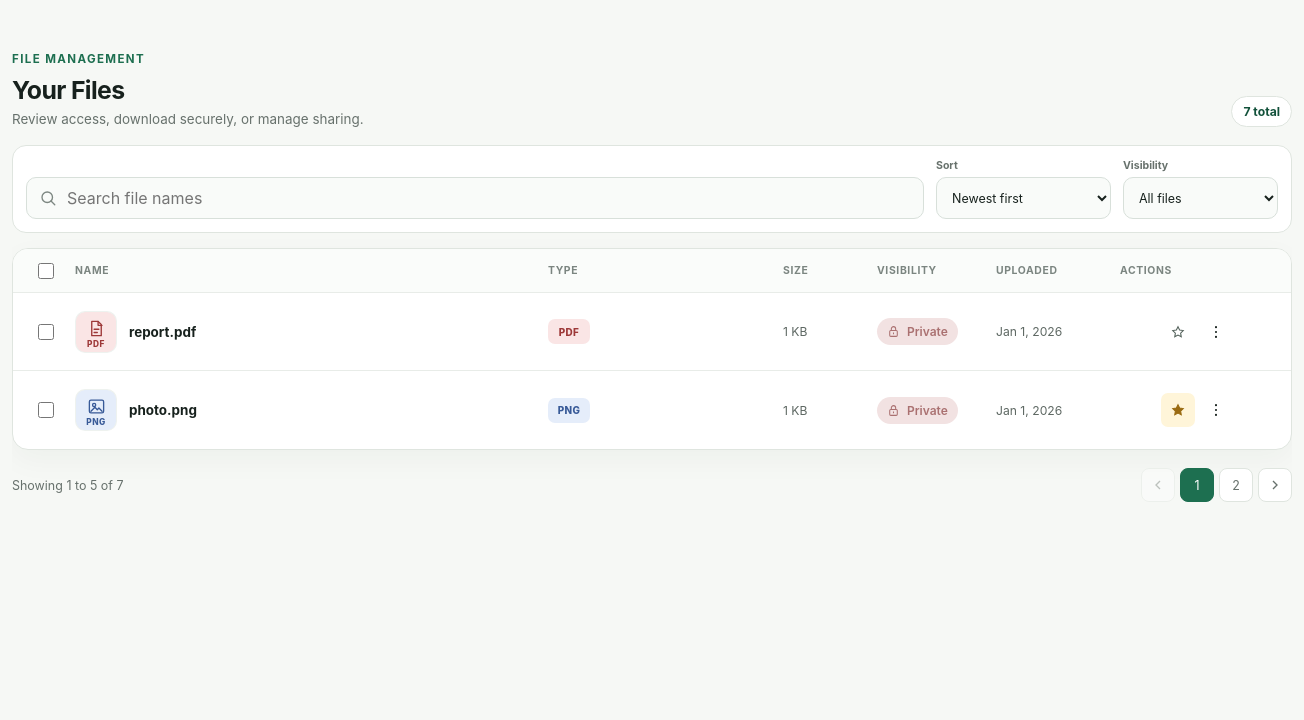
Test: FileList professional table and pagination › bulk page selection and actions › offers only Move to Trash for selected files in the dashboard view
The width and height of the screenshot is (1304, 720).
Step 1. Click the checkbox named "Select report.pdf" → {"x": 46, "y": 332}, box x1=38 y1=324 x2=54 y2=340
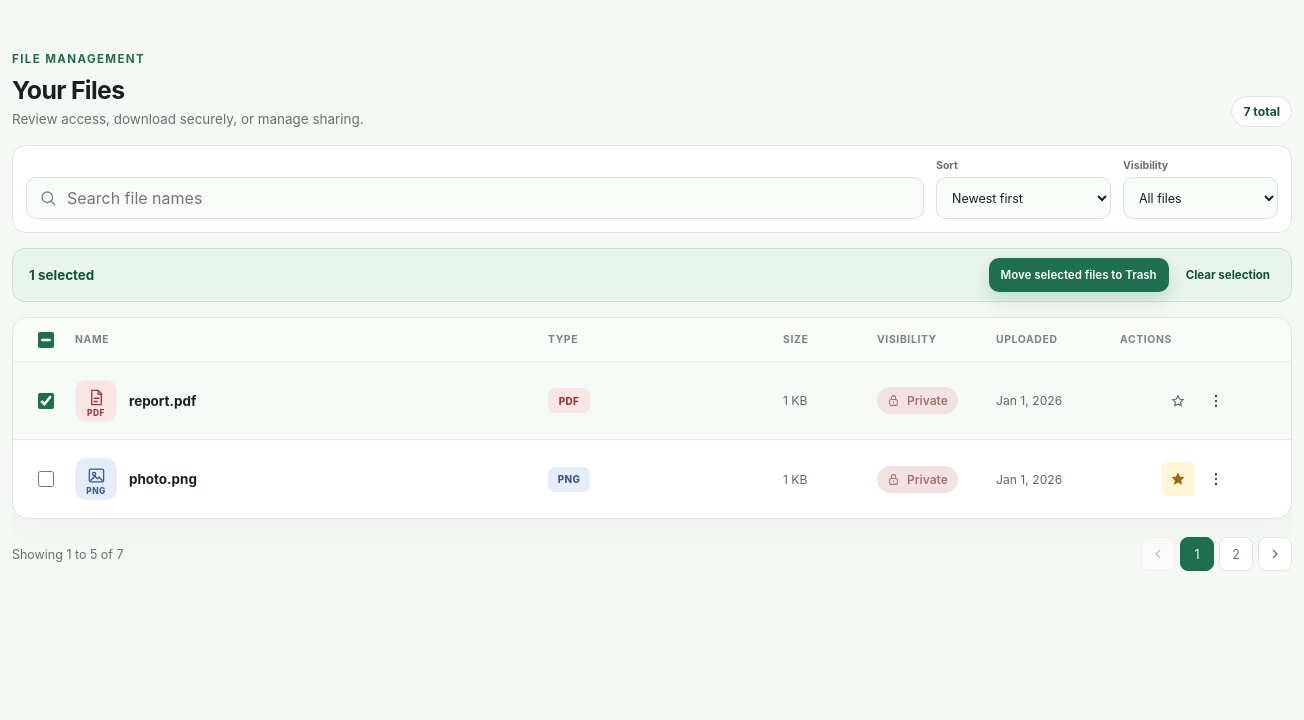
Result: the button "Move selected files to Trash" is shown at x1=989 y1=258 x2=1169 y2=292
